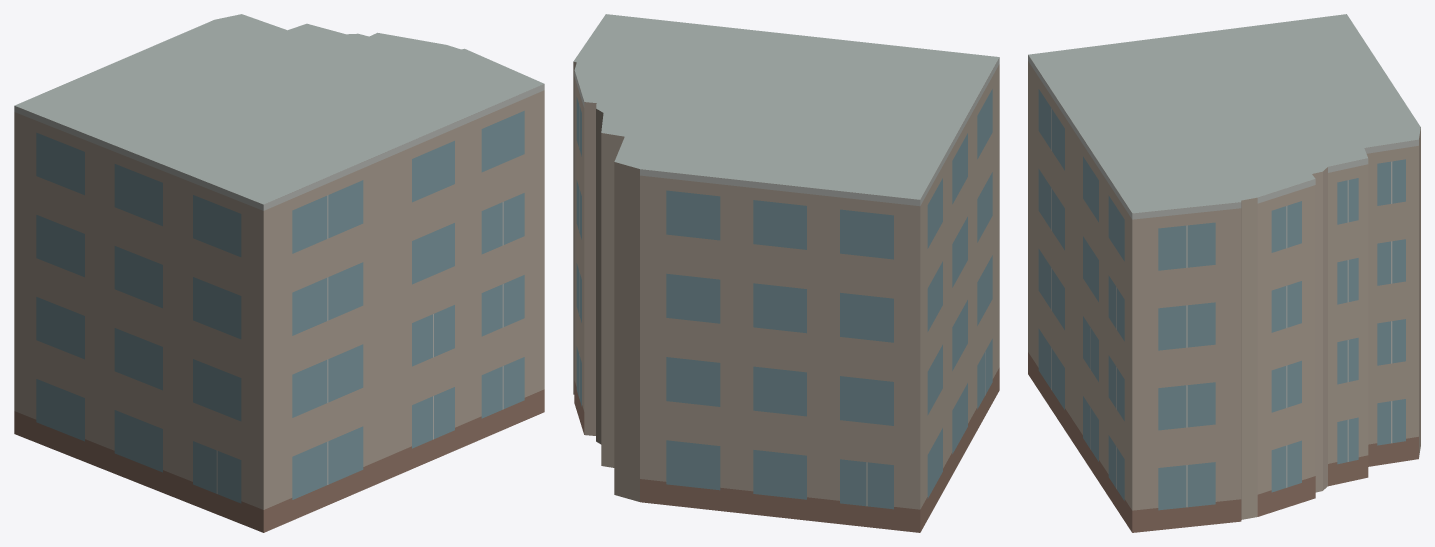
The model's file is survey-upis-32927951.glb.
The picture shows the model from 3 angles, left to right: view 1: azimuth 30°, elevation 25°; view 2: azimuth 150°, elevation 25°; view 3: azimuth 270°, elevation 25°; orthographic projection. The views are drawn at different scales.
Parts seen in each view (by area): view 1: survey-upis-32927951.tmp; view 2: survey-upis-32927951.tmp; view 3: survey-upis-32927951.tmp.
Part boxes in pixels (x1,y1,x2,y2): survey-upis-32927951.tmp: (14,14,544,532); survey-upis-32927951.tmp: (573,14,999,532); survey-upis-32927951.tmp: (1028,14,1420,532).
Bounding box in the file's own units: 17.02 × 12.7 × 14.16.
